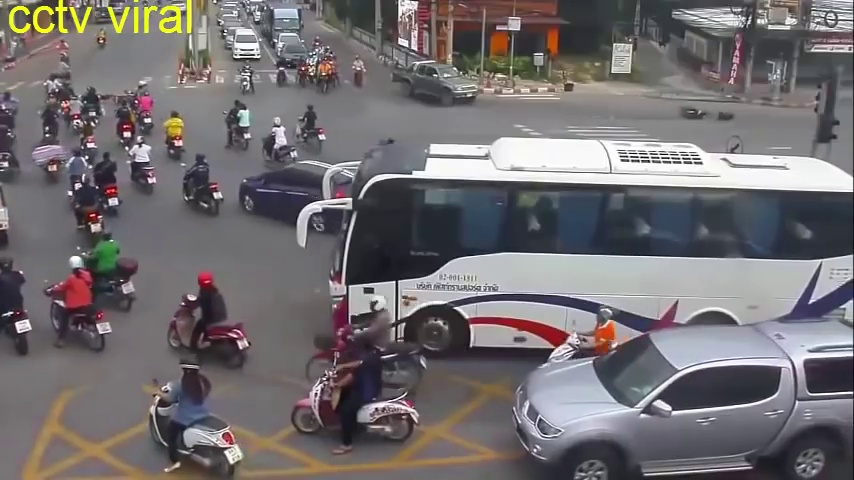car: (321, 144, 854, 360), (512, 323, 854, 475), (238, 163, 355, 243), (402, 56, 477, 108), (232, 30, 262, 63), (280, 39, 308, 72)
motorbike: (298, 339, 418, 447), (152, 357, 243, 476), (311, 301, 425, 392), (166, 275, 250, 372), (550, 302, 620, 388), (50, 260, 111, 356), (83, 234, 137, 315), (1, 259, 34, 361), (180, 152, 222, 220), (72, 173, 107, 245), (265, 115, 296, 167), (129, 136, 157, 193), (293, 104, 325, 153), (37, 128, 64, 186), (95, 153, 119, 216), (227, 98, 251, 156), (1, 125, 23, 183), (68, 149, 91, 200), (165, 111, 186, 161), (116, 100, 137, 148), (137, 80, 155, 136), (39, 99, 60, 141), (2, 91, 18, 143), (236, 61, 256, 99), (80, 124, 96, 166), (271, 57, 289, 93), (67, 95, 83, 132), (352, 54, 368, 90), (318, 60, 332, 90)
